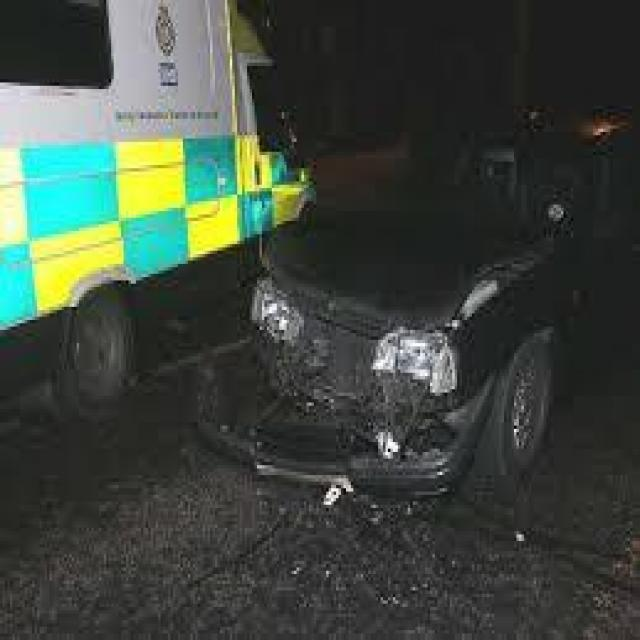damaged: (247, 257, 467, 505)
